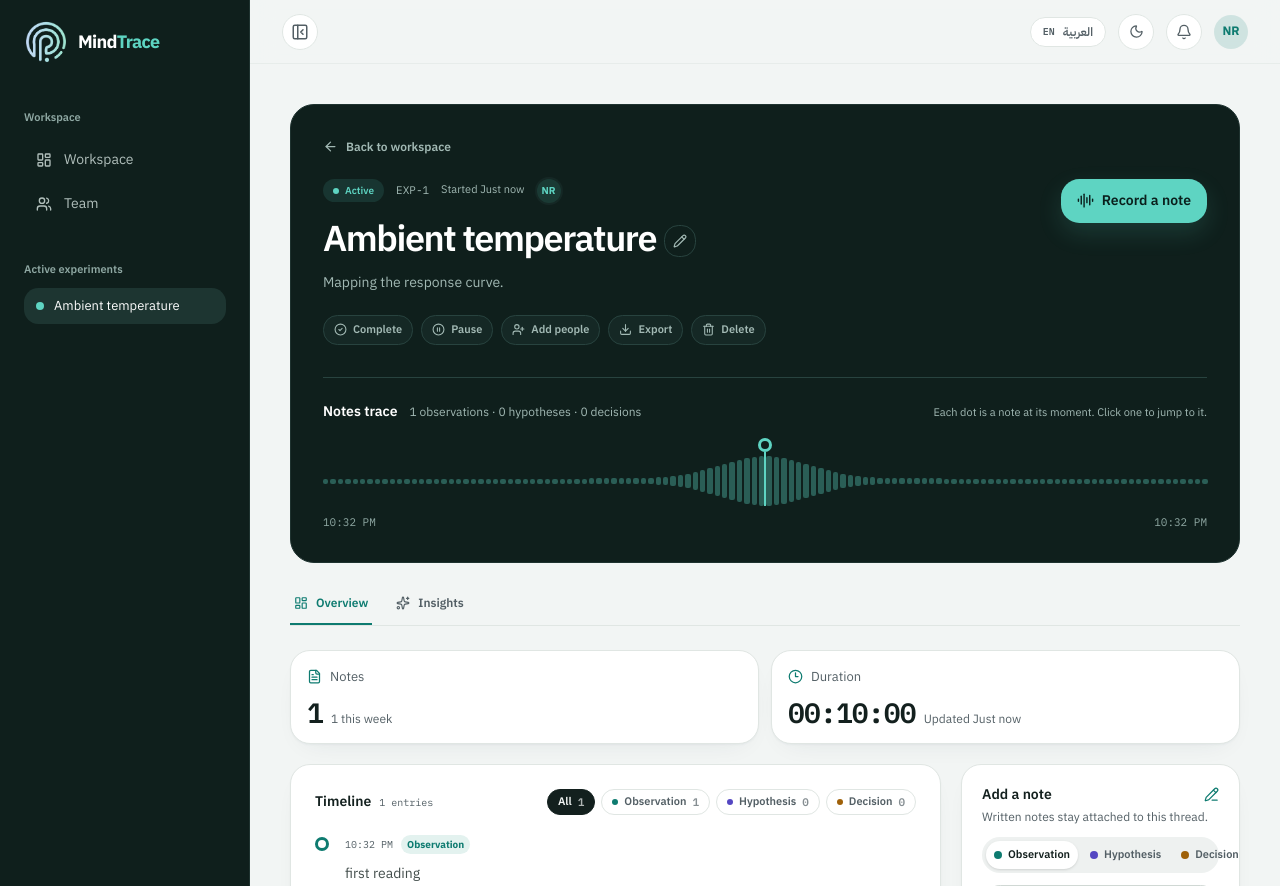
Scenario: export from the experiment page › PDF opens the designed report and the print window
Click the button with test id "button-export" at (646,330), box [608,314,683,345]
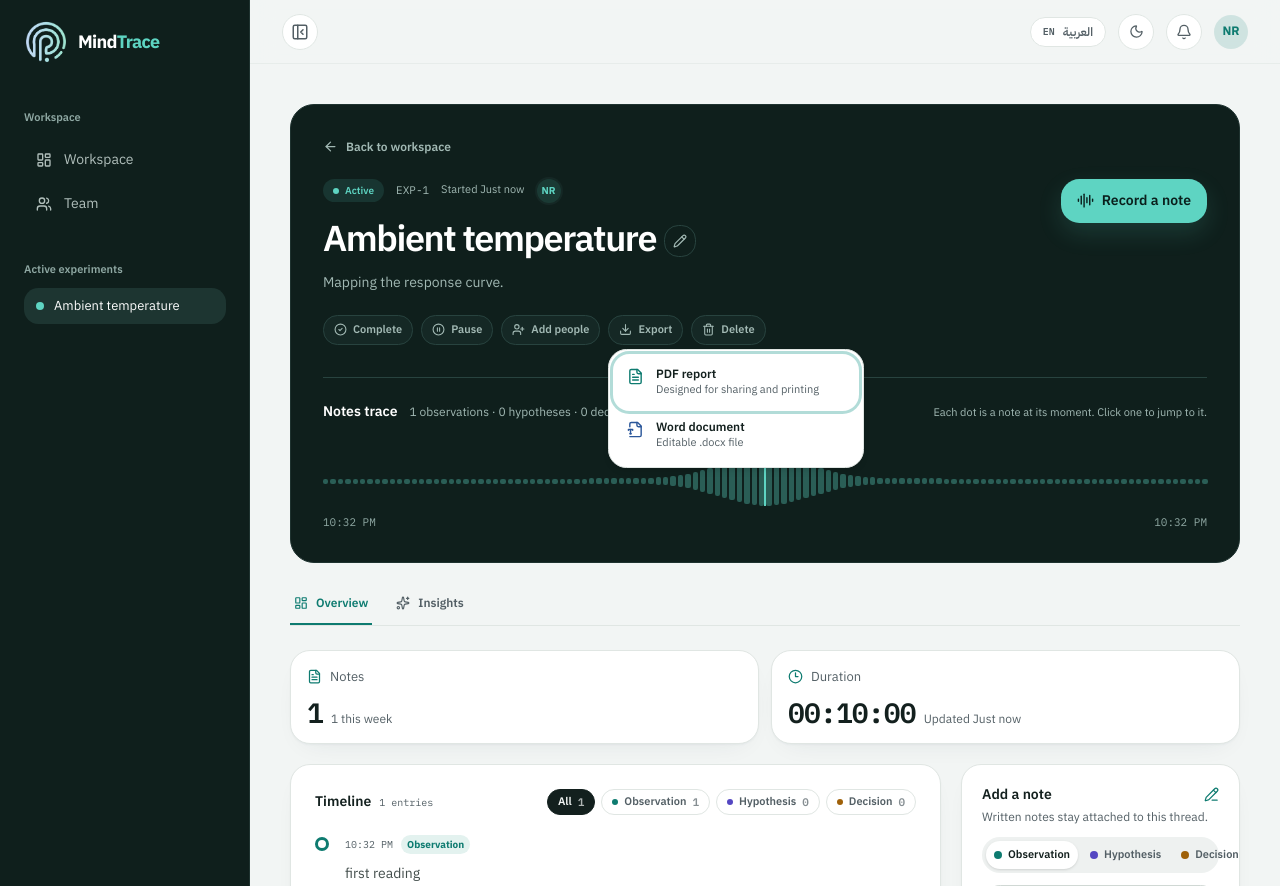
Click the button with test id "button-export-pdf" at (736,382), box [615,356,857,408]
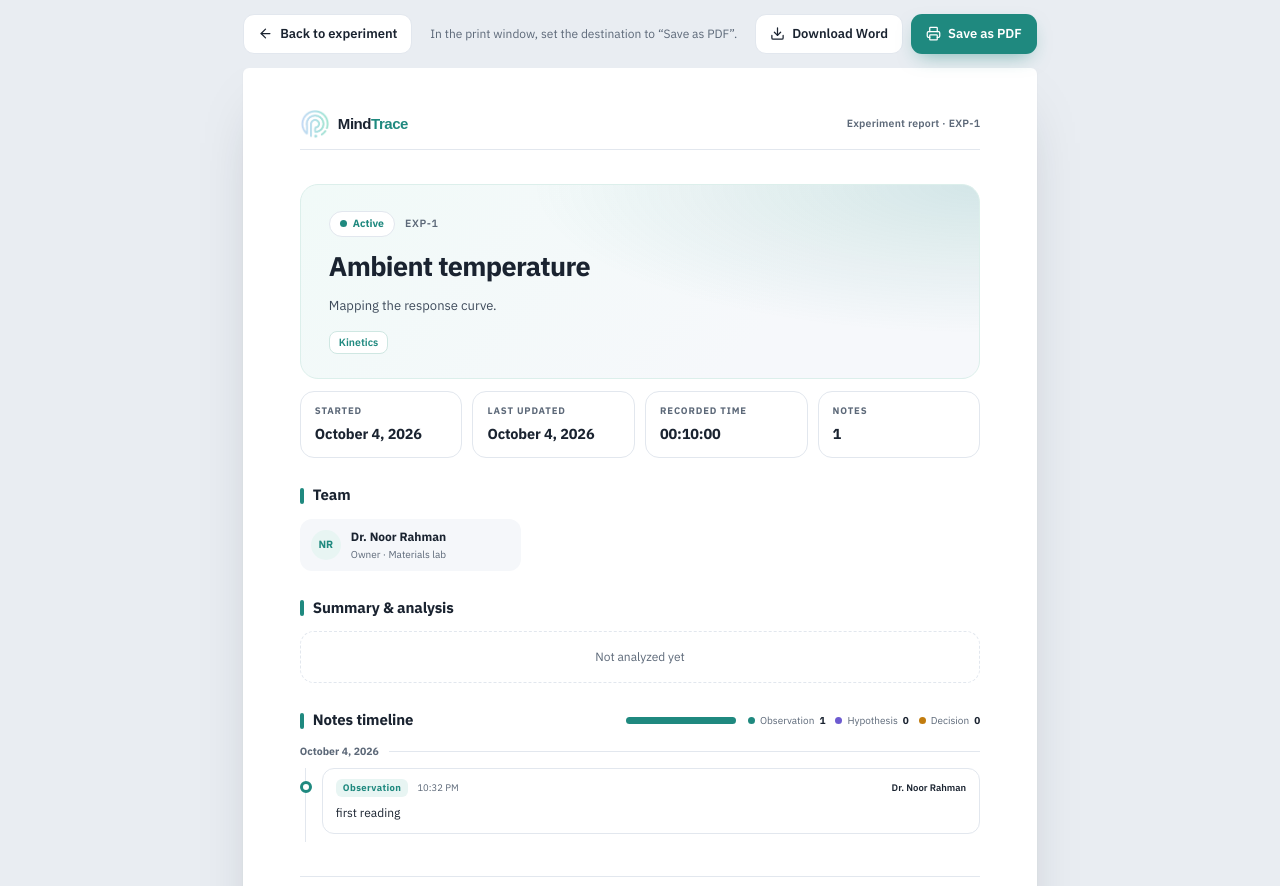
Expected: the heading with test id "report-title" reads "Ambient temperature", [329,247,590,287]
Expected: the list item with test id "report-note-7" shows "first reading", [336,804,400,822]
Expected: the text "Not analyzed yet" is shown, [300,631,980,683]
